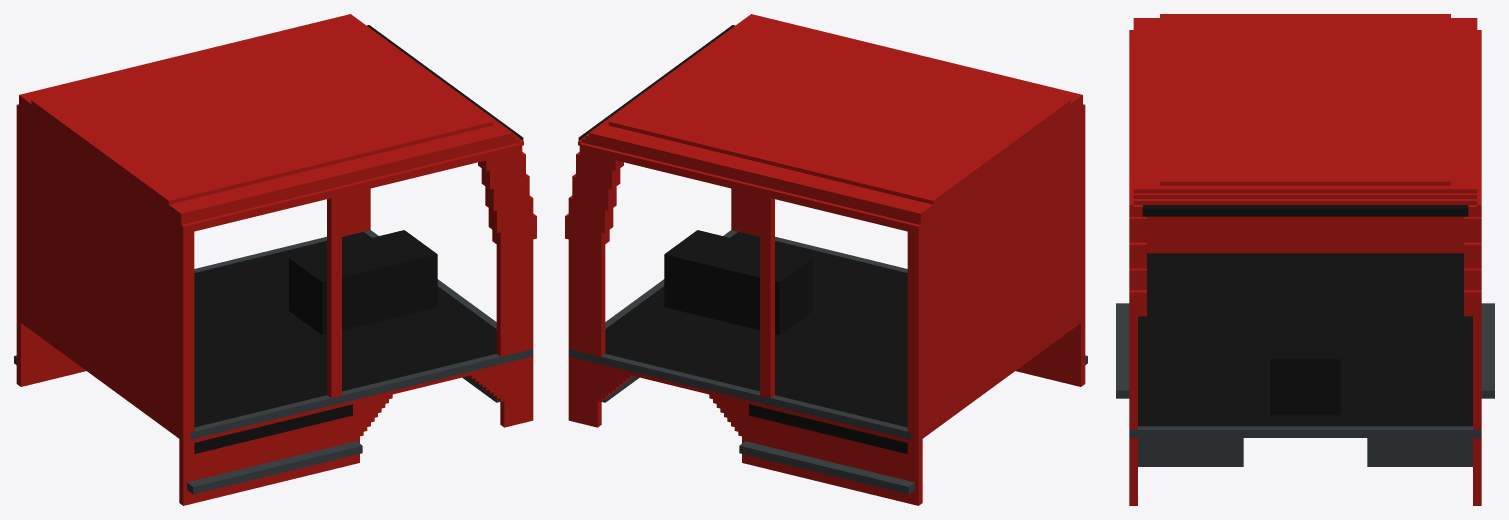
The model's file is fire_engine_cab.glb.
3 renders of one model, left to right at view 1: azimuth 30°, elevation 25°; view 2: azimuth 150°, elevation 25°; view 3: azimuth 270°, elevation 25°, orthographic. The views are drawn at different scales.
Visible parts, largest first — view 1: body:compound; view 2: body:compound; view 3: body:compound.
Part boxes in pixels (x1=…): body:compound: x1=14, y1=14, x2=536, y2=505; body:compound: x1=565, y1=14, x2=1087, y2=505; body:compound: x1=1116, y1=14, x2=1494, y2=505.
Size of the model in its own units: 3.06 by 2.44 by 2.69.
